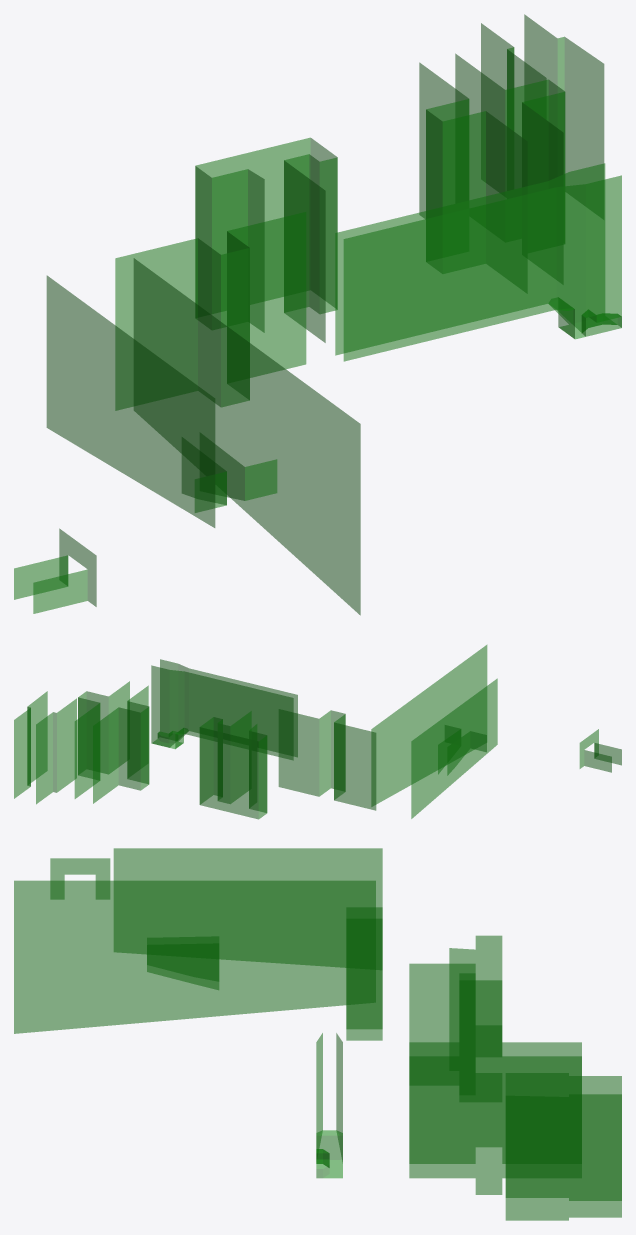
The model's file is stg151_A_cam.obj.
The picture shows the model from 3 angles, top to bottom: view 1: azimuth 30°, elevation 25°; view 2: azimuth 150°, elevation 25°; view 3: azimuth 270°, elevation 25°; orthographic projection. The views are drawn at different scales.
Bounding box in the file's own units: 235 × 51.4 × 183.
